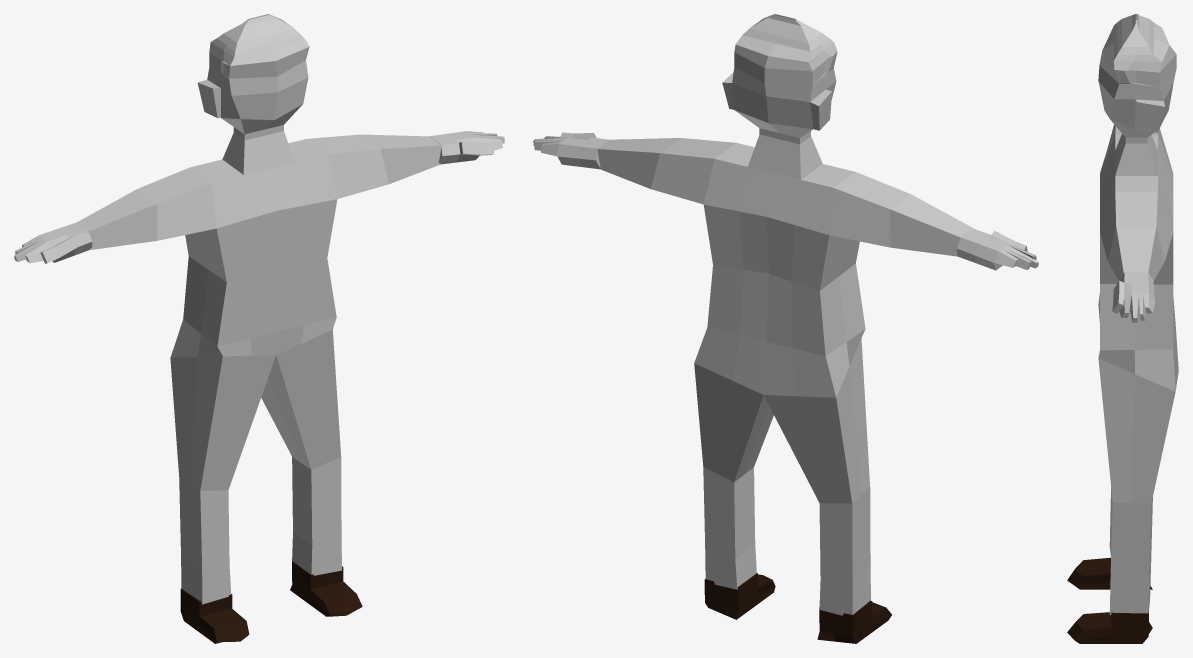
The model's file is Rob.obj.
The picture shows the model from 3 angles, left to right: view 1: azimuth 30°, elevation 25°; view 2: azimuth 150°, elevation 25°; view 3: azimuth 270°, elevation 25°; orthographic projection. The views are drawn at different scales.
Parts seen in each view (by area): view 1: body; view 2: body; view 3: body.
Part boxes in pixels (box(x1,y1,x2,y2)): body: box(14, 14, 504, 643); body: box(533, 14, 1038, 643); body: box(1067, 14, 1178, 643).
Size of the model in its own units: 11.93 by 13.74 by 2.36.
